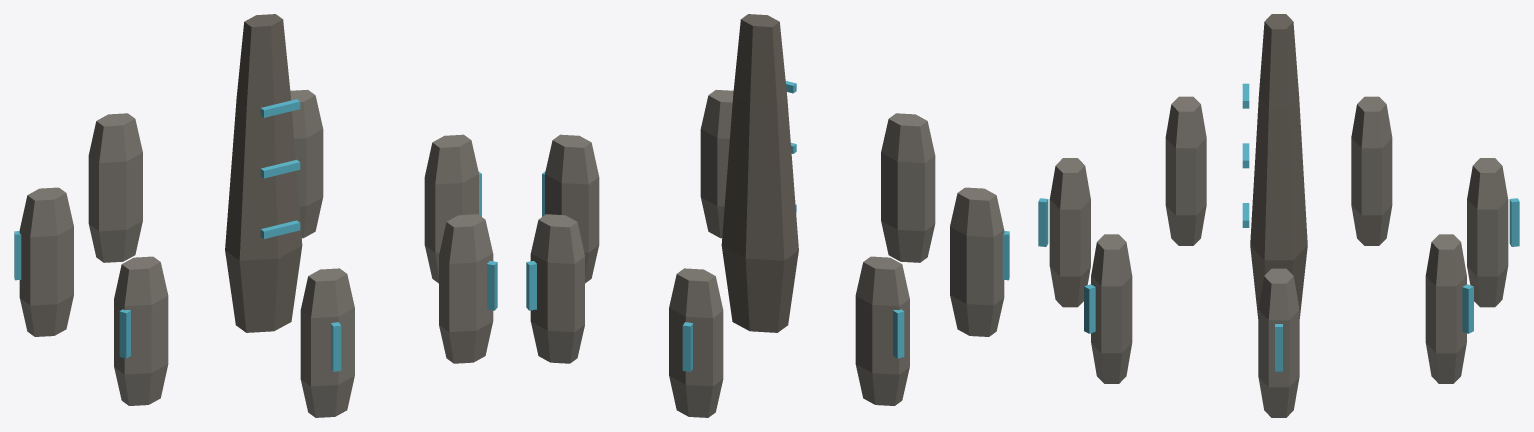
File: dwarf_landmark.glb
The picture shows the model from 3 angles, left to right: view 1: azimuth 30°, elevation 25°; view 2: azimuth 150°, elevation 25°; view 3: azimuth 270°, elevation 25°; orthographic projection.
Visible parts, largest first — view 1: dwarf_landmark; view 2: dwarf_landmark; view 3: dwarf_landmark.
Part boxes in pixels (x1=…): dwarf_landmark: x1=14, y1=14, x2=497, y2=417; dwarf_landmark: x1=526, y1=14, x2=1009, y2=417; dwarf_landmark: x1=1038, y1=14, x2=1519, y2=417.
Size of the model in its own units: 2.85 by 2 by 2.92.
